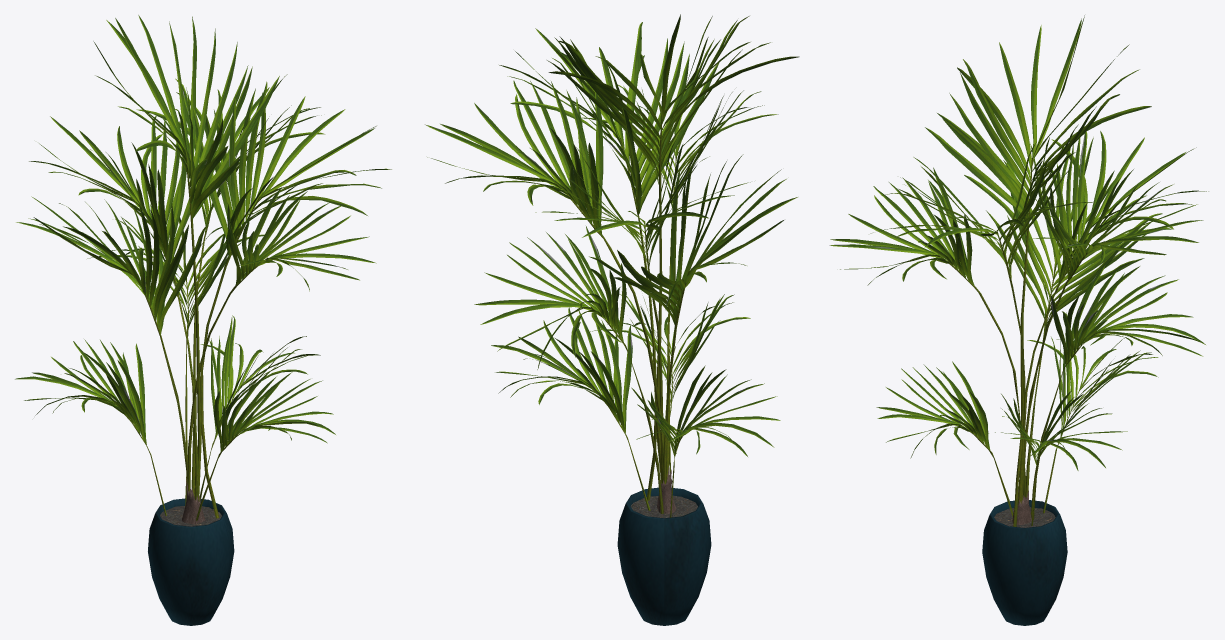
The model's file is indoor_plantS_04.fbx.
The picture shows the model from 3 angles, left to right: view 1: azimuth 30°, elevation 25°; view 2: azimuth 150°, elevation 25°; view 3: azimuth 270°, elevation 25°; orthographic projection. The views are drawn at different scales.
Visible parts, largest first — view 1: arch75_024_001; view 2: arch75_024_001; view 3: arch75_024_001.
Boxes of the visible parts, box(x1,y1,x2,y2) form: arch75_024_001: box(15, 15, 391, 625); arch75_024_001: box(424, 14, 799, 625); arch75_024_001: box(829, 15, 1208, 625).
Bounding box in the file's own units: 132 × 243 × 145.
Materials: 1 (1 with a texture image).
